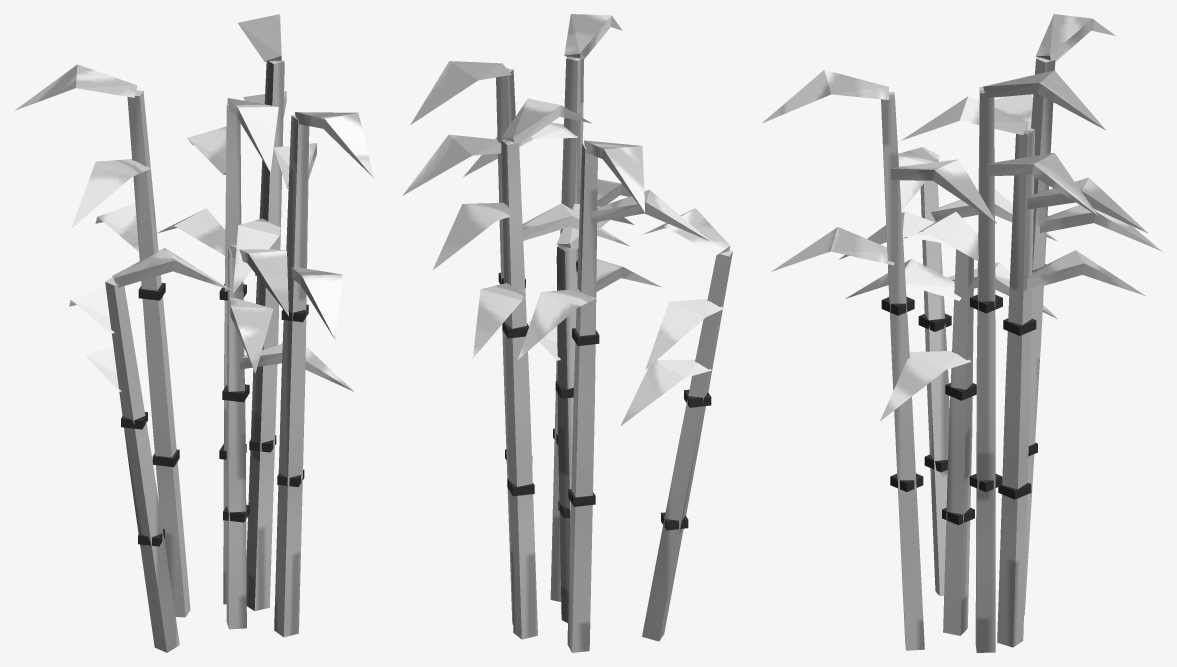
The model's file is tree_bamboo_1.obj.
The picture shows the model from 3 angles, left to right: view 1: azimuth 30°, elevation 25°; view 2: azimuth 150°, elevation 25°; view 3: azimuth 270°, elevation 25°; orthographic projection. The views are drawn at different scales.
Parts seen in each view (by area): view 1: tree_bamboo_1; view 2: tree_bamboo_1; view 3: tree_bamboo_1.
Part boxes in pixels (x1,y1,x2,y2): tree_bamboo_1: [14, 14, 373, 652]; tree_bamboo_1: [402, 14, 732, 652]; tree_bamboo_1: [761, 14, 1162, 652].
Bounding box in the file's own units: 0.5035 × 1.07 × 0.6603.
